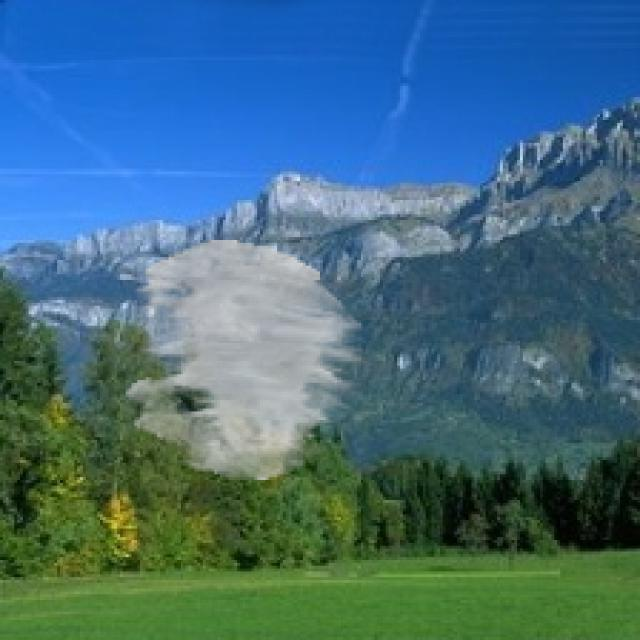smoke: (126, 240, 366, 480)
